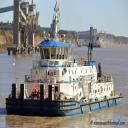tugboat: (5, 32, 125, 119)
